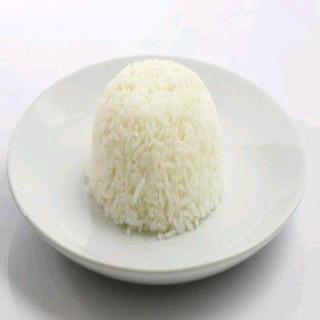Nasi: (86, 57, 227, 239)
